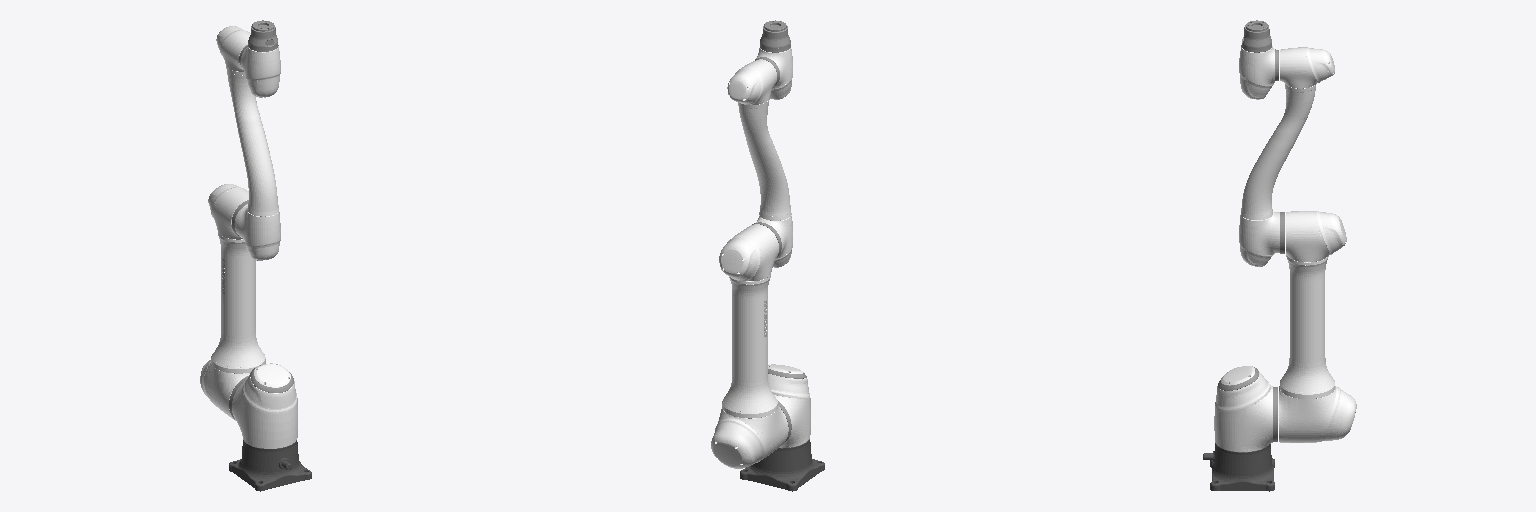
The robot description file, URDF, robot "a0912":
<?xml version="1.0" ?>
<robot name="a0912">
  
  <link name="base"/>
  <joint name="fixed" type="fixed">
    <parent link="base"/>
    <child link="base_0"/>
  </joint>
  
  <link name="base_0">
	<inertial>
	  <mass value="3.722"/>
	  <origin xyz="-1.2e-05 -6e-05 0.050723"/>
      <inertia ixx="0.011" ixy="-7.19e-06" ixz="-1.94e-06" iyy="0.011" iyz="4.9e-06" izz="0.014"/>
    </inertial>
	<visual>
      <origin rpy="0 0 0" xyz="0 0 0"/>
      <geometry>
        <mesh filename="package://dsr_description2/meshes/a0912_white/A0912_0_0.dae" scale="0.001 0.001 0.001"/>
      </geometry>
    </visual>
  </link>

  <joint name="joint1" type="revolute">
    <parent link="base_0"/>
    <child link="link1"/>
    <origin rpy="0 0 0" xyz="0 0 0.195"/>
    <axis xyz="0 0 1"/>
    <limit effort="30" lower="-2.617" upper="2.617" velocity="1.571"/>
  </joint>

  <link name="link1">
	<inertial>
	  <mass value="7.446"/>
	  <origin xyz="7e-05 0.044281 0.143327"/>
      <inertia ixx="0.039" ixy="2.1e-05" ixz="-3.61e-05" iyy="0.023" iyz="-0.003" izz="0.039"/>
    </inertial>
    <visual>
      <origin rpy="0 0 0" xyz="0 0 0"/>
      <geometry>
        <mesh filename="package://dsr_description2/meshes/a0912_white/A0912_1_0.dae" scale="0.001 0.001 0.001"/>
      </geometry>
    </visual>
    <visual>
      <origin rpy="0 0 0" xyz="0 0 0"/>
      <geometry>
        <mesh filename="package://dsr_description2/meshes/a0912_white/A0912_1_1.dae" scale="0.001 0.001 0.001"/>
      </geometry>
    </visual>
    <visual>
      <origin rpy="0 0 0" xyz="0 0 0"/>
      <geometry>
        <mesh filename="package://dsr_description2/meshes/a0912_white/A0912_1_2.dae" scale="0.001 0.001 0.001"/>
      </geometry>
    </visual>
  </link>
  
  <joint name="joint2" type="revolute">
    <parent link="link1"/>
    <child link="link2"/>
    <origin rpy="0 -1.571 -1.571" xyz="0 0.039 0"/>
    <axis xyz="0 0 1"/>
    <limit effort="30" lower="-2.617" upper="2.617" velocity="1.571"/>
  </joint>

  <link name="link2">
	<inertial>
	  <mass value="10.569"/>
	  <origin xyz="-1.6e-05 0.189372 0.418558"/>
      <inertia ixx="0.820" ixy="1.19e-05" ixz="-0.000263" iyy="0.82" iyz="-0.008" izz="0.031"/>
    </inertial>
    <visual>
      <origin rpy="0 0 0" xyz="0 0 0"/>
      <geometry>
        <mesh filename="package://dsr_description2/meshes/a0912_white/A0912_2_0.dae" scale="0.001 0.001 0.001"/>
      </geometry>
    </visual>
    <visual>
      <origin rpy="0 0 0" xyz="0 0 0"/>
      <geometry>     
		<mesh filename="package://dsr_description2/meshes/a0912_white/A0912_2_1.dae" scale="0.001 0.001 0.001"/>
      </geometry>
	</visual>
    <visual>
      <origin rpy="0 0 0" xyz="0 0 0"/>
      <geometry>     
		<mesh filename="package://dsr_description2/meshes/a0912_white/A0912_2_2.dae" scale="0.001 0.001 0.001"/>
      </geometry>
    </visual>	
  </link>

  <joint name="joint3" type="revolute">
    <parent link="link2"/>
    <child link="link3"/>
    <origin rpy="0 0 1.571" xyz="0.56 0 0"/>
    <axis xyz="0 0 1"/>
    <limit effort="30" lower="-2.617" upper="2.617" velocity="1.571"/>
  </joint>
  
  <link name="link3">
	<inertial>
	  <mass value="3.614"/>
	  <origin xyz="6e-06 0.07917 0.781807"/>
      <inertia ixx="0.012" ixy="-4.38e-06" ixz="-1.2e-06" iyy="0.008" iyz="0.002" izz="0.011"/>
    </inertial>
    <visual>
      <origin rpy="0 0 0" xyz="0 0 0"/>
      <geometry>     
		<mesh filename="package://dsr_description2/meshes/a0912_white/A0912_3_0.dae" scale="0.001 0.001 0.001"/>
      </geometry>
    </visual>
    <visual>
      <origin rpy="0 0 0" xyz="0 0 0"/>
      <geometry>     
		<mesh filename="package://dsr_description2/meshes/a0912_white/A0912_3_1.dae" scale="0.001 0.001 0.001"/>
      </geometry>
    </visual>
  </link>

  <joint name="joint4" type="revolute">
    <parent link="link3"/>
    <child link="link4"/>
    <origin rpy="1.571 0 0" xyz="0 -0.516 0"/>
    <axis xyz="0 0 1"/>
    <limit effort="30" lower="-2.617" upper="2.617" velocity="1.571"/>
  </joint>
  
  <link name="link4">
	<inertial>
	  <mass value="3.785"/>
	  <origin xyz="-2.1e-05 0.12337 1.148"/>
      <inertia ixx="0.177" ixy="-2.34e-06" ixz="-4.92e-06" iyy="0.161" iyz="-0.05" izz="0.022"/>
    </inertial>
    <visual>
      <origin rpy="0 0 0" xyz="0 0 0"/>
      <geometry>     
		<mesh filename="package://dsr_description2/meshes/a0912_white/A0912_4_0.dae" scale="0.001 0.001 0.001"/>
      </geometry>
    </visual>
    <visual>
      <origin rpy="0 0 0" xyz="0 0 0"/>
      <geometry>     
		<mesh filename="package://dsr_description2/meshes/a0912_white/A0912_4_1.dae" scale="0.001 0.001 0.001"/>
      </geometry>
    </visual>
  </link>

  <joint name="joint5" type="revolute">
    <parent link="link4"/>
    <child link="link5"/>
    <origin rpy="-1.571 0 0" xyz="0 0 0"/>
    <axis xyz="0 0 1"/>
    <limit effort="30" lower="-2.617" upper="2.617" velocity="1.571"/>
  </joint>
  
  <link name="link5">
	<inertial>
	  <mass value="2.598"/>
	  <origin xyz="-1.7e-05 0.06662 1.33103"/>
      <inertia ixx="0.007" ixy="-4.93e-06" ixz="-5.57e-06" iyy="0.004" iyz="-6.64e-05" izz="0.007"/>
    </inertial>
    <visual>
      <origin rpy="0 0 0" xyz="0 0 0"/>
      <geometry>     
		<mesh filename="package://dsr_description2/meshes/a0912_white/A0912_5_0.dae" scale="0.001 0.001 0.001"/>
      </geometry>
    </visual>
    <visual>
      <origin rpy="0 0 0" xyz="0 0 0"/>
      <geometry>     
		<mesh filename="package://dsr_description2/meshes/a0912_white/A0912_5_1.dae" scale="0.001 0.001 0.001"/>
      </geometry>
    </visual>
  </link>

  <joint name="joint6" type="revolute">
    <parent link="link5"/>
    <child link="link6"/>
    <origin rpy="1.571 0 0" xyz="0 -0.124 0"/>
    <axis xyz="0 0 1"/>
    <limit effort="30" lower="-2.617" upper="2.617" velocity="1.571"/>
  </joint>
  
  <link name="link6">
	<inertial>
	  <mass value="1.128"/>
	  <origin xyz="-0.000174 0.034708 1.40022"/>
      <inertia ixx="0.001" ixy="-2.79e-06" ixz="5.78e-06" iyy="0.001" iyz="-6.67e-06" izz="0.001"/>
    </inertial>
    <visual>
      <origin rpy="0 0 0" xyz="0 0 0"/>
      <geometry>     
		<mesh filename="package://dsr_description2/meshes/a0912_white/A0912_6_0.dae" scale="0.001 0.001 0.001"/>
      </geometry>
    </visual>
  </link>
  
</robot>

--- Facts derived from the render (not from the file) ---
Views: 3 orthographic renders of the robot side by side, from view 1: azimuth 30°, elevation 25°; view 2: azimuth 150°, elevation 25°; view 3: azimuth 270°, elevation 25°.
Model a0912 with 8 links and 7 joints (6 revolute, 1 fixed), rooted at base, posed every joint at zero.
Links seen in each view (by area): view 1: link2, link4, link1, base_0, link3, link5, link6; view 2: link2, link4, link1, base_0, link5, link3, link6; view 3: link2, link4, link1, base_0, link3, link5, link6.
Link boxes in pixels (left/top/right/bottom): link2: left=200, top=184, right=265, bottom=420; link4: left=216, top=26, right=278, bottom=216; link1: left=229, top=363, right=297, bottom=448; base_0: left=229, top=440, right=311, bottom=491; link3: left=232, top=200, right=280, bottom=260; link5: left=239, top=45, right=280, bottom=97; link6: left=248, top=20, right=278, bottom=51; link2: left=711, top=224, right=788, bottom=468; link4: left=727, top=59, right=791, bottom=220; link1: left=768, top=364, right=810, bottom=447; base_0: left=740, top=439, right=824, bottom=491; link5: left=755, top=48, right=792, bottom=99; link3: left=752, top=215, right=792, bottom=267; link6: left=760, top=20, right=790, bottom=52; link2: left=1279, top=211, right=1356, bottom=442; link4: left=1241, top=47, right=1334, bottom=219; link1: left=1214, top=366, right=1277, bottom=451; base_0: left=1203, top=443, right=1274, bottom=491; link3: left=1239, top=212, right=1284, bottom=266; link5: left=1239, top=46, right=1278, bottom=99; link6: left=1241, top=20, right=1271, bottom=52.
Bounding box of the posed robot: 0.182 × 0.4285 × 1.4 m (x, y, z).
14 mesh visuals loaded from 14 distinct referenced files (14 Collada DAE).